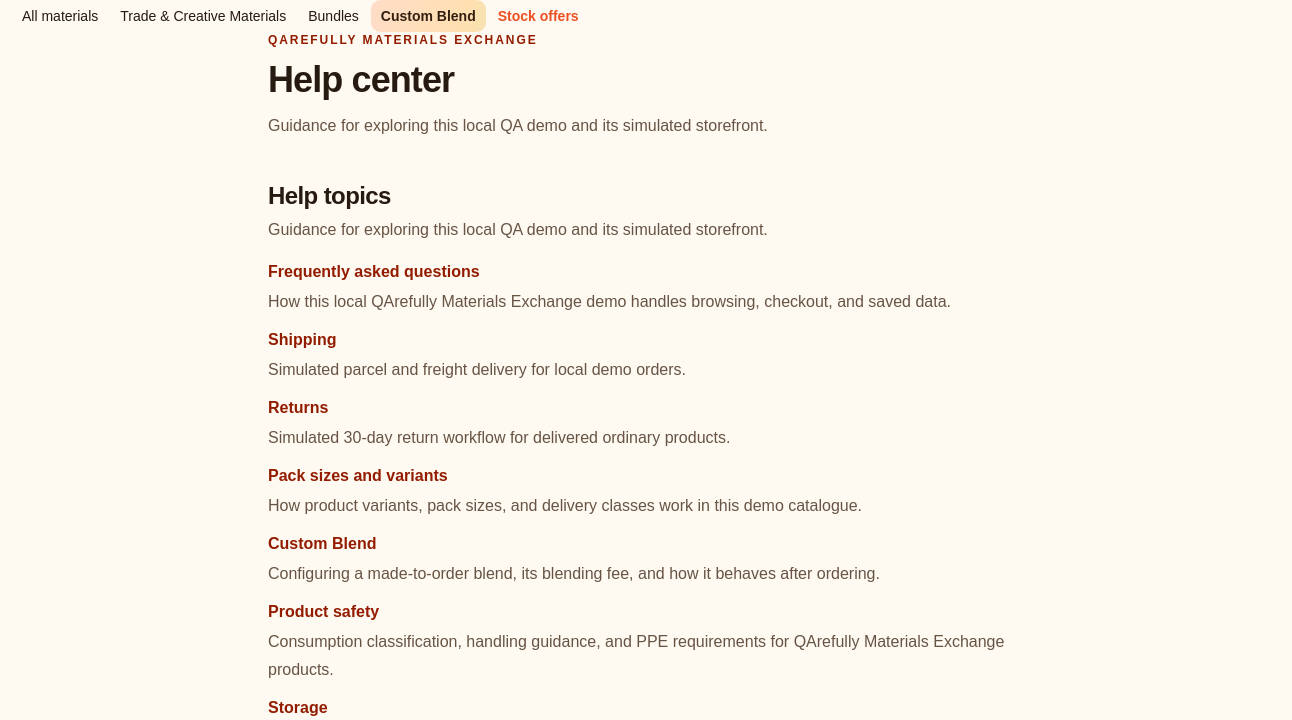
Scenario: custom blend reachability › reaches the configurator from the nav link a customer can actually see
Click the link "Custom Blend" next to "Bundles": x=428, y=16 [371,0,486,32]
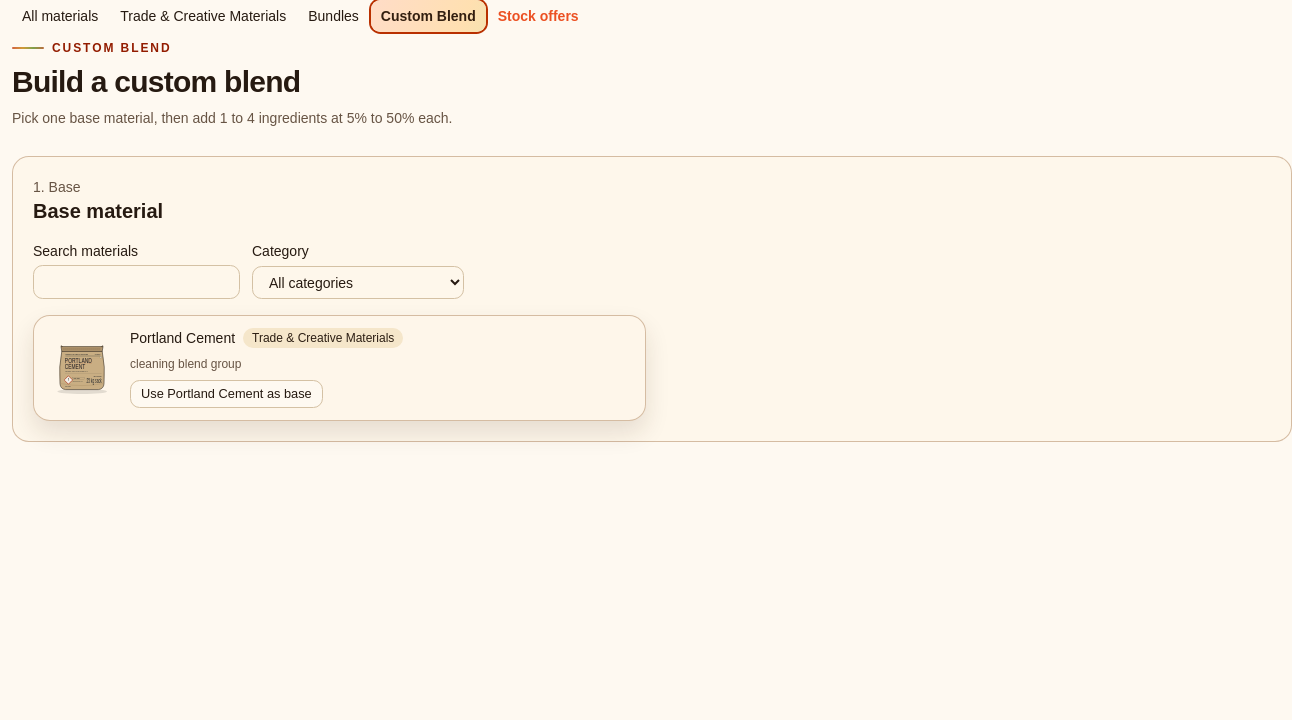
Expected: the heading "Build a custom blend" is shown, [12,65,300,98]
Expected: the heading "Base material" is shown, [33,200,163,222]
